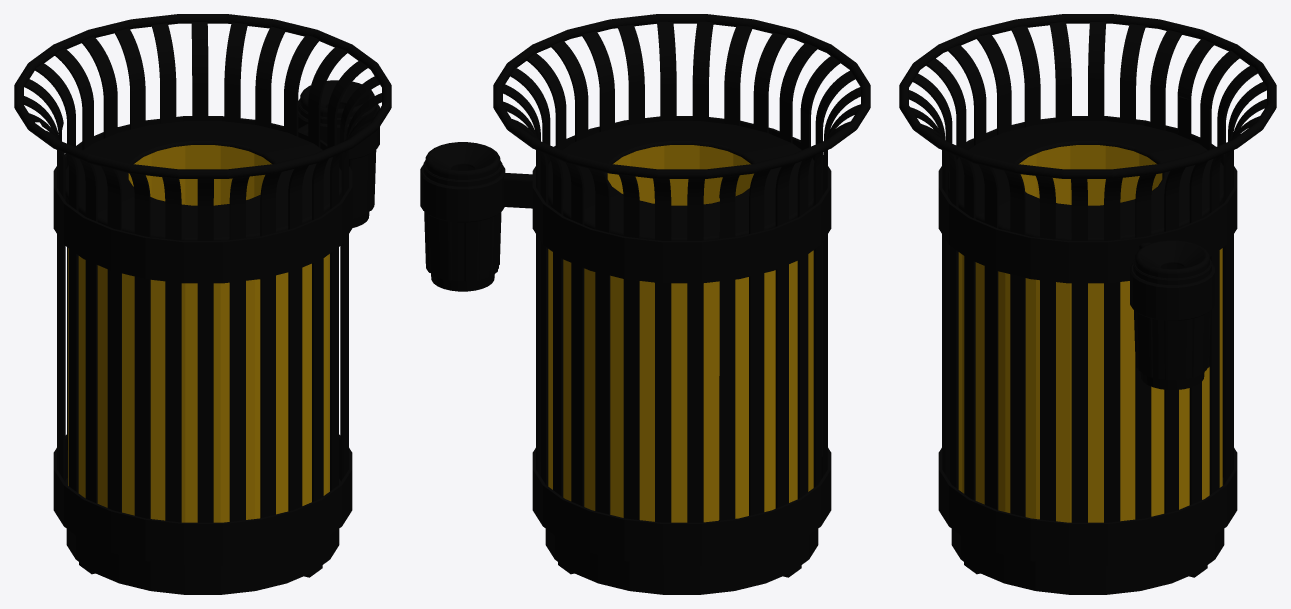
3 renders of one model, left to right at view 1: azimuth 30°, elevation 25°; view 2: azimuth 150°, elevation 25°; view 3: azimuth 270°, elevation 25°, orthographic.
Parts seen in each view (by area): view 1: mesh9_mesh9-geometry, mesh70_mesh70-geometry, mesh71_mesh71-geometry, mesh7_mesh7-geometry, mesh72_mesh72-geometry, mesh38_mesh38-geometry, mesh24_mesh24-geometry, mesh22_mesh22-geometry, mesh32_mesh32-geometry, mesh18_mesh18-geometry, mesh60_mesh60-geometry, mesh44_mesh44-geometry (+24 smaller); view 2: mesh9_mesh9-geometry, mesh70_mesh70-geometry, mesh71_mesh71-geometry, mesh7_mesh7-geometry, mesh72_mesh72-geometry, mesh46_mesh46-geometry, mesh50_mesh50-geometry, mesh56_mesh56-geometry, mesh34_mesh34-geometry, mesh4_mesh4-geometry, mesh64_mesh64-geometry, mesh36_mesh36-geometry (+24 smaller); view 3: mesh9_mesh9-geometry, mesh70_mesh70-geometry, mesh7_mesh7-geometry, mesh71_mesh71-geometry, mesh72_mesh72-geometry, mesh28_mesh28-geometry, mesh20_mesh20-geometry, mesh4_mesh4-geometry, mesh26_mesh26-geometry, mesh54_mesh54-geometry, mesh48_mesh48-geometry, mesh62_mesh62-geometry (+24 smaller).
Boxes of the visible parts, box(x1,y1,x2,y2) form: mesh9_mesh9-geometry: box(68, 145, 329, 522); mesh70_mesh70-geometry: box(53, 434, 352, 594); mesh71_mesh71-geometry: box(53, 116, 352, 283); mesh7_mesh7-geometry: box(65, 121, 341, 240); mesh72_mesh72-geometry: box(14, 14, 391, 178); mesh38_mesh38-geometry: box(162, 177, 181, 522); mesh24_mesh24-geometry: box(229, 176, 249, 521); mesh22_mesh22-geometry: box(197, 179, 213, 522); mesh32_mesh32-geometry: box(129, 173, 150, 518); mesh18_mesh18-geometry: box(260, 172, 281, 518); mesh60_mesh60-geometry: box(101, 166, 121, 512); mesh44_mesh44-geometry: box(288, 165, 308, 511); mesh9_mesh9-geometry: box(548, 145, 813, 522); mesh70_mesh70-geometry: box(532, 448, 831, 594); mesh71_mesh71-geometry: box(532, 116, 831, 283); mesh7_mesh7-geometry: box(548, 121, 822, 240); mesh72_mesh72-geometry: box(493, 14, 870, 178); mesh46_mesh46-geometry: box(653, 178, 671, 522); mesh50_mesh50-geometry: box(687, 179, 704, 522); mesh56_mesh56-geometry: box(619, 174, 639, 519); mesh34_mesh34-geometry: box(719, 175, 739, 520); mesh4_mesh4-geometry: box(424, 211, 501, 291); mesh64_mesh64-geometry: box(749, 169, 770, 515); mesh36_mesh36-geometry: box(588, 168, 610, 514); mesh9_mesh9-geometry: box(958, 145, 1222, 522); mesh70_mesh70-geometry: box(938, 448, 1237, 594); mesh7_mesh7-geometry: box(948, 121, 1223, 240); mesh71_mesh71-geometry: box(938, 116, 1237, 283); mesh72_mesh72-geometry: box(899, 14, 1276, 178); mesh28_mesh28-geometry: box(1104, 178, 1122, 522); mesh20_mesh20-geometry: box(1071, 179, 1087, 522); mesh4_mesh4-geometry: box(1134, 310, 1211, 389); mesh26_mesh26-geometry: box(1036, 176, 1055, 521); mesh54_mesh54-geometry: box(1004, 171, 1025, 516); mesh48_mesh48-geometry: box(978, 164, 998, 509); mesh62_mesh62-geometry: box(959, 157, 975, 500).
Size of the model in its own units: 0.5719 by 0.6538 by 0.4956.
